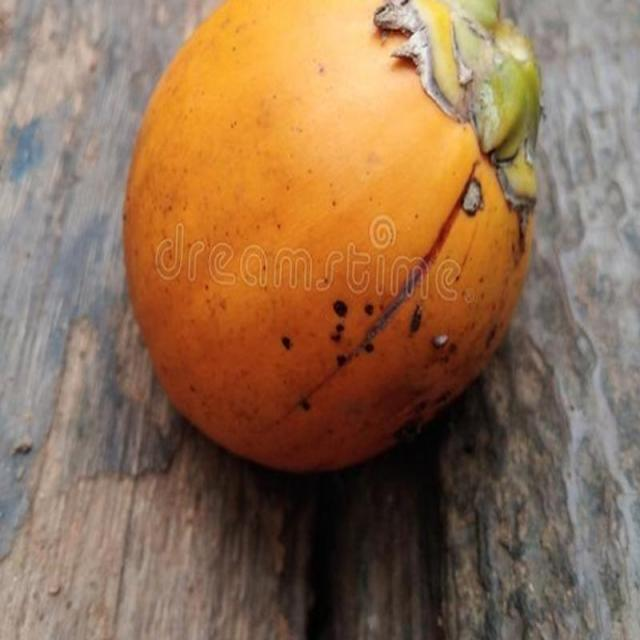good: (122, 0, 541, 478)
